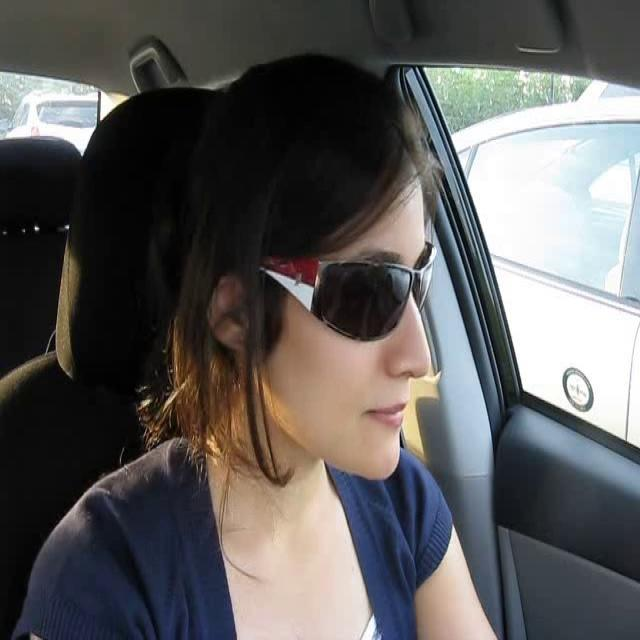close: (363, 396, 410, 434)
